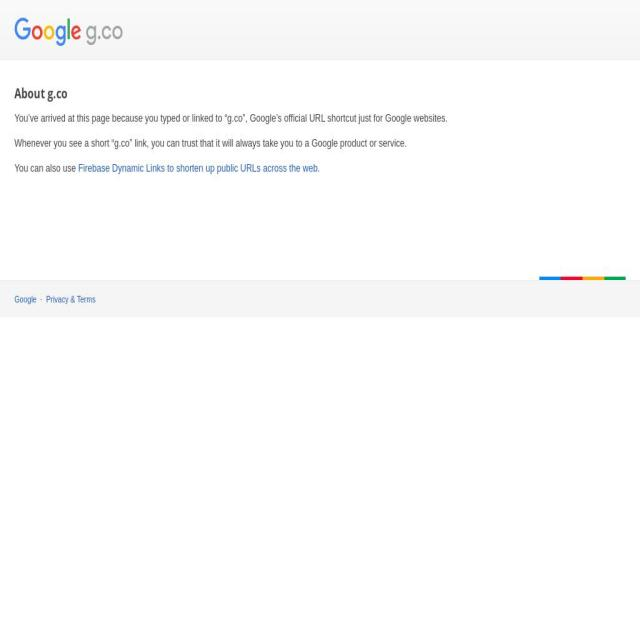heading: (14, 85, 626, 102), (14, 17, 86, 51), (81, 12, 123, 48)
link: (78, 161, 321, 174), (46, 294, 96, 304), (14, 294, 36, 304)
text: (14, 109, 626, 127), (14, 134, 626, 152), (14, 161, 78, 174)
